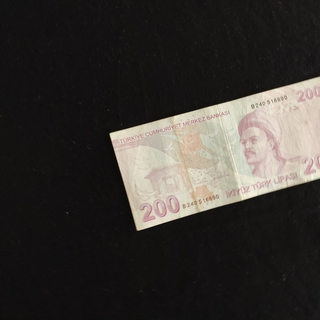200TLBack: (109, 74, 320, 231)
